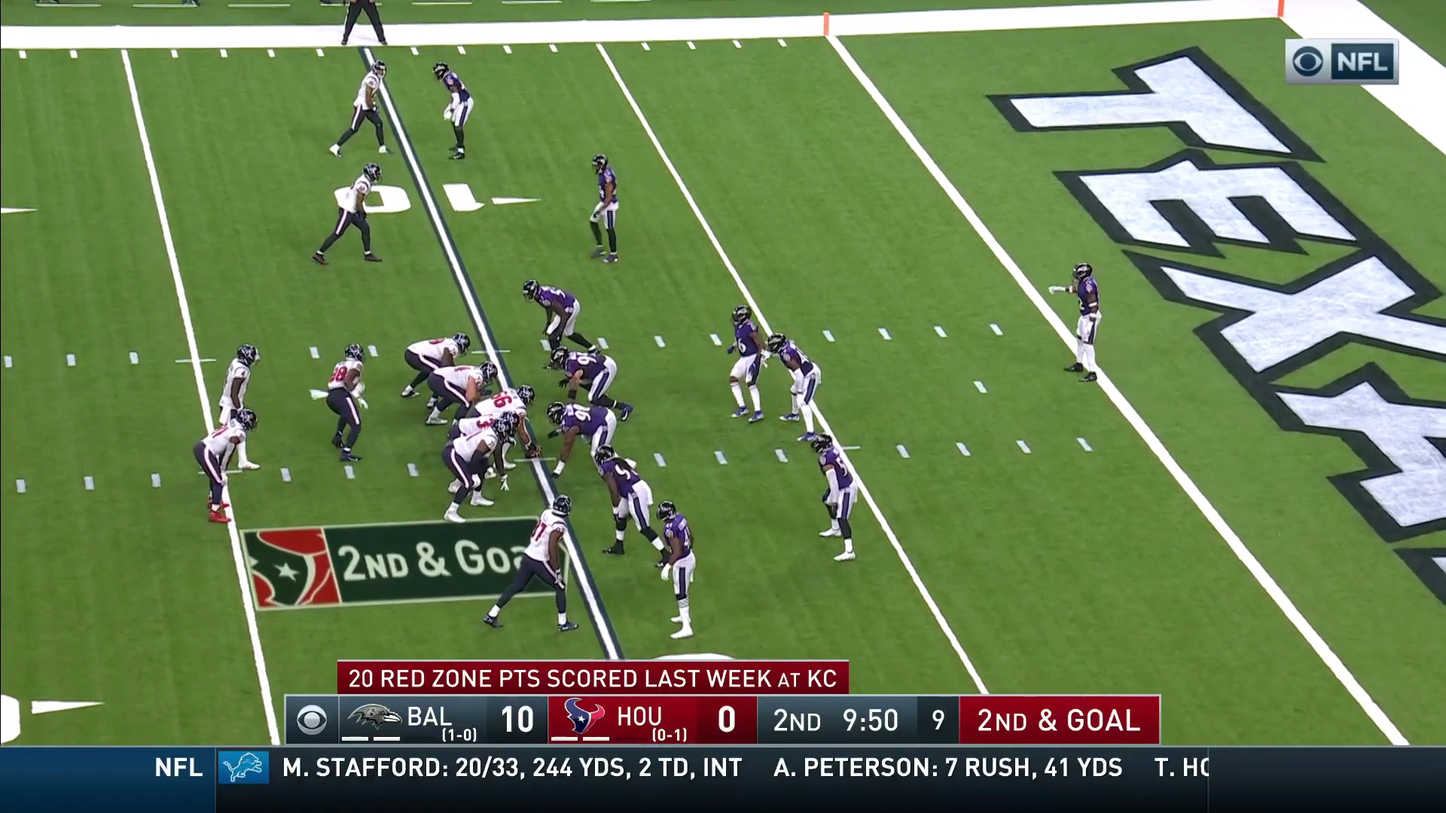Player: (194, 402, 255, 521), (459, 388, 531, 483), (443, 410, 503, 520), (596, 446, 652, 551), (657, 500, 695, 636), (213, 345, 258, 454), (327, 344, 365, 461), (548, 401, 616, 465), (729, 304, 764, 421), (550, 340, 616, 401), (1071, 262, 1101, 377), (590, 153, 618, 260), (428, 362, 490, 410)
